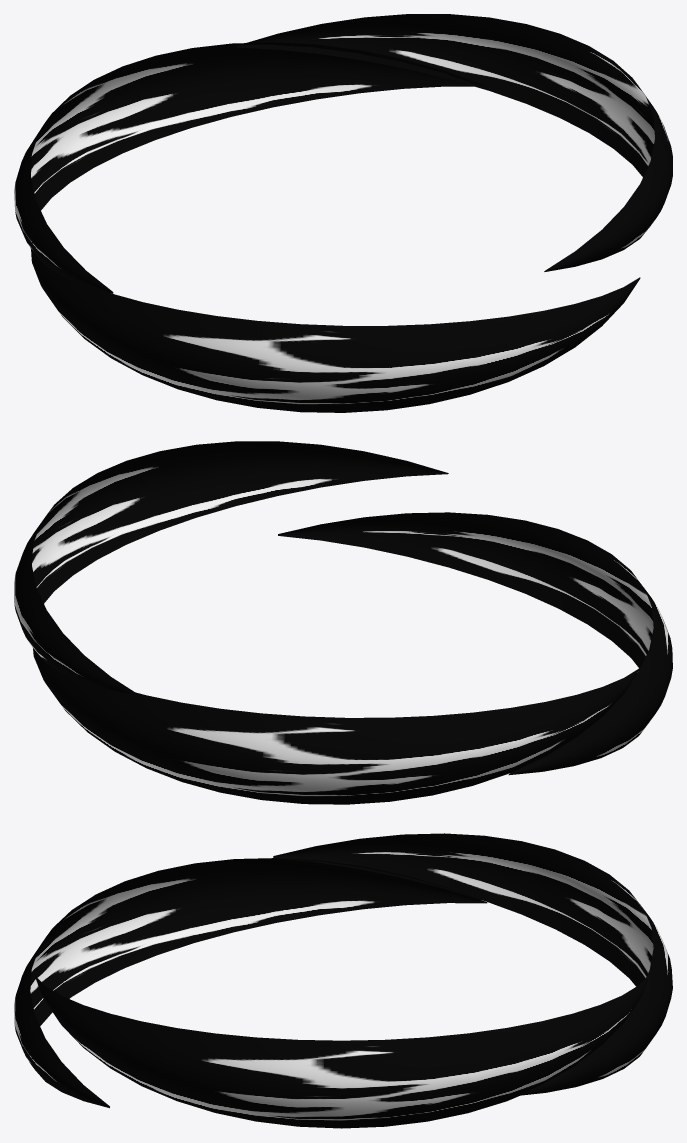
File: WindSlash2.fbx
3 renders of one model, top to bottom at view 1: azimuth 30°, elevation 25°; view 2: azimuth 150°, elevation 25°; view 3: azimuth 270°, elevation 25°, orthographic.
Parts seen in each view (by area): view 1: SM_e_Plc_P1012_Ring004.001; view 2: SM_e_Plc_P1012_Ring004.001; view 3: SM_e_Plc_P1012_Ring004.001.
Part boxes in pixels (bbox=[...]): SM_e_Plc_P1012_Ring004.001: bbox=[14, 14, 672, 412]; SM_e_Plc_P1012_Ring004.001: bbox=[14, 441, 672, 804]; SM_e_Plc_P1012_Ring004.001: bbox=[14, 833, 672, 1128].
Bounding box in the file's own units: 105 × 27.31 × 106.
Materials: 1 (1 with a texture image).
